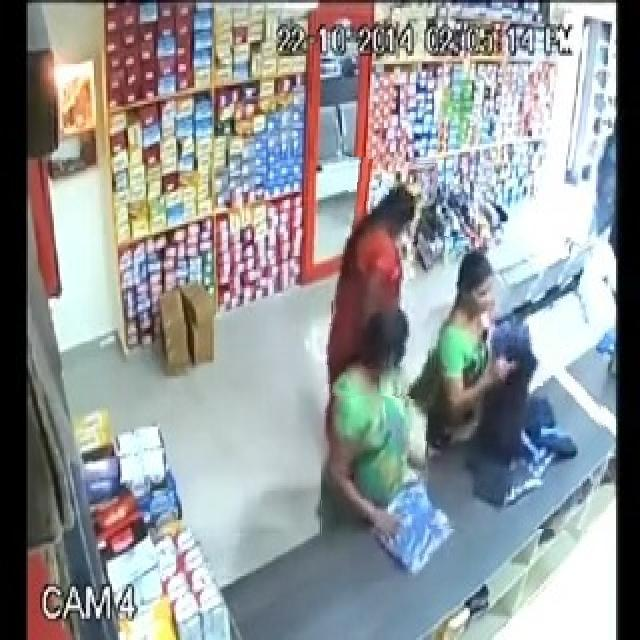Normal: (428, 238, 605, 529), (319, 297, 465, 582), (332, 157, 435, 396)
